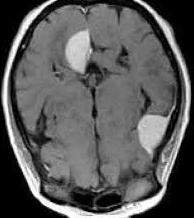Tumour-Meningioma: (62, 18, 101, 82)
